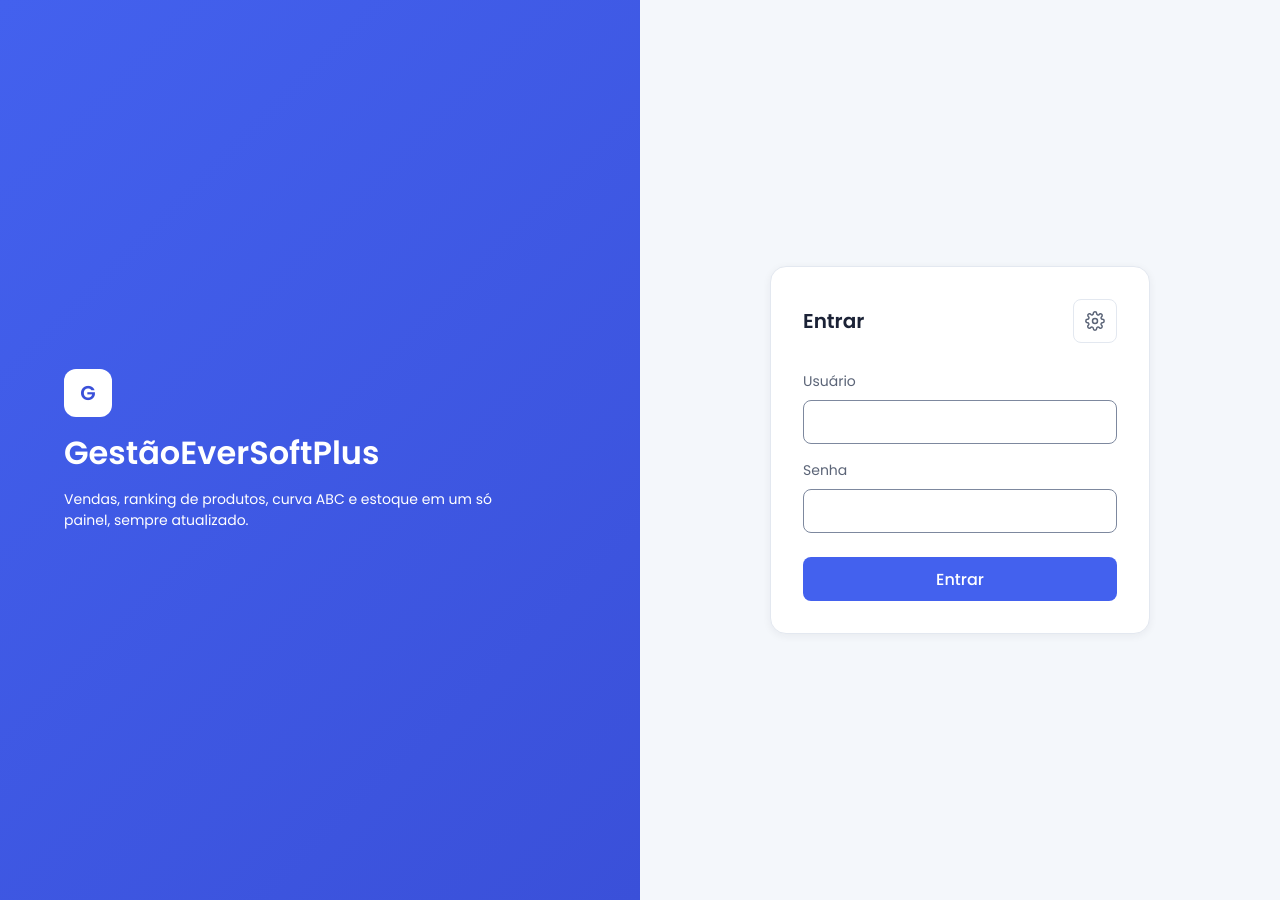
it: LoginPage › submeter credenciais inválidas exibe mensagem de erro e mantém o usuário no login
This screenshot has width=1280, height=900.
Type "gestor" into the field labelled "Usuário". click: (960, 422)
box: [803,400,1117,444]
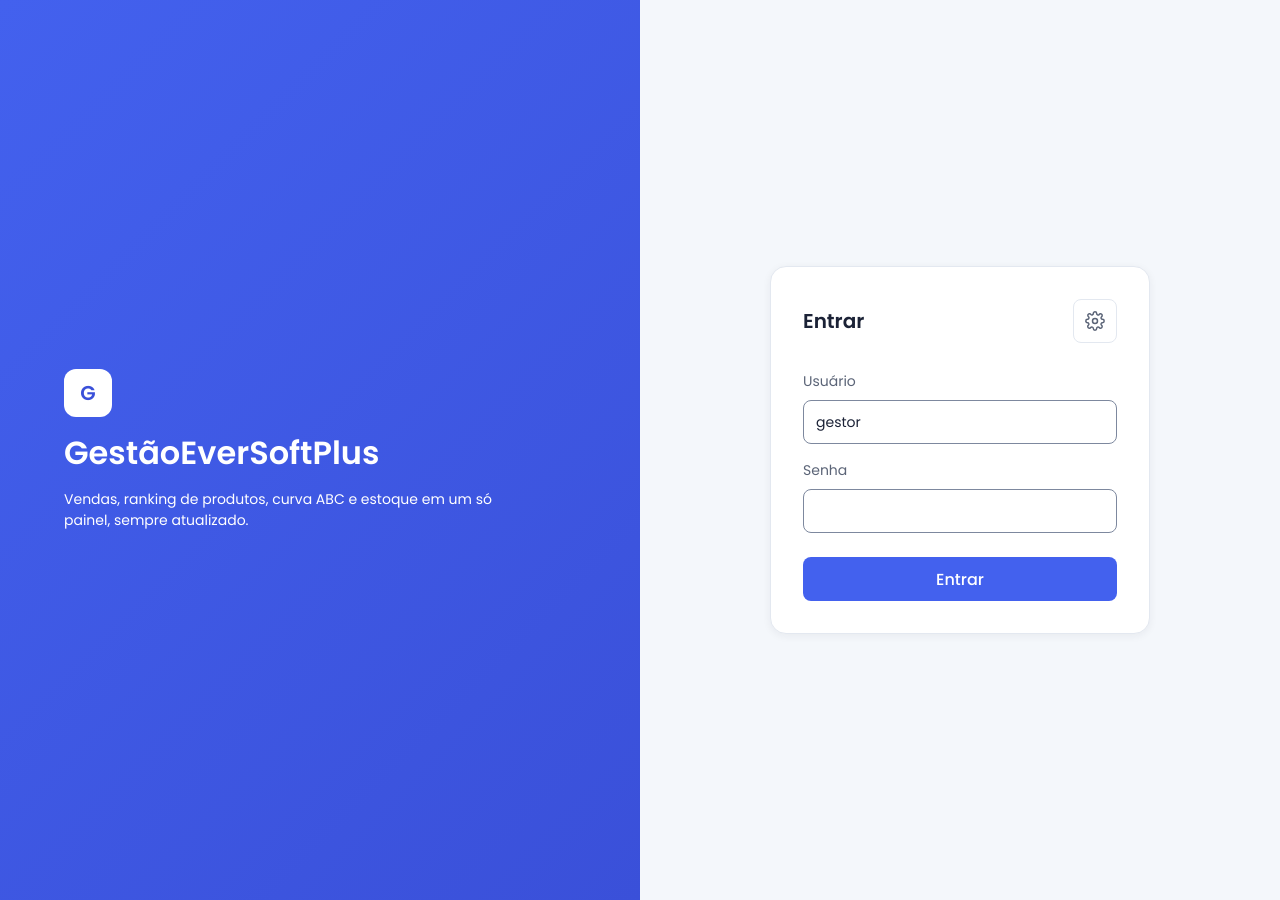
Type "errada" into the password field labelled "Senha". click: (960, 511)
box: [803,489,1117,533]
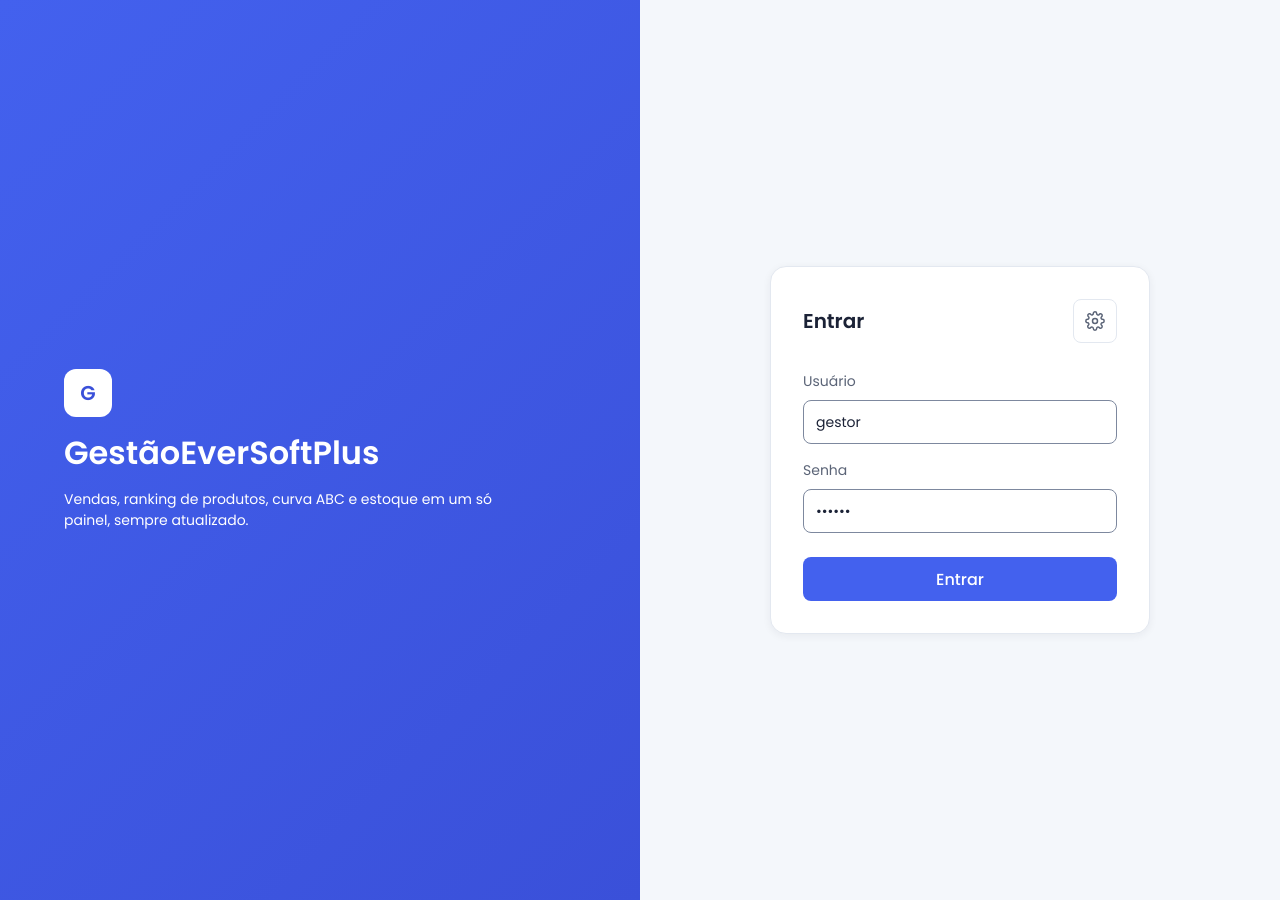
Click the button "Entrar". click: (960, 579)
box: [803,557,1117,601]
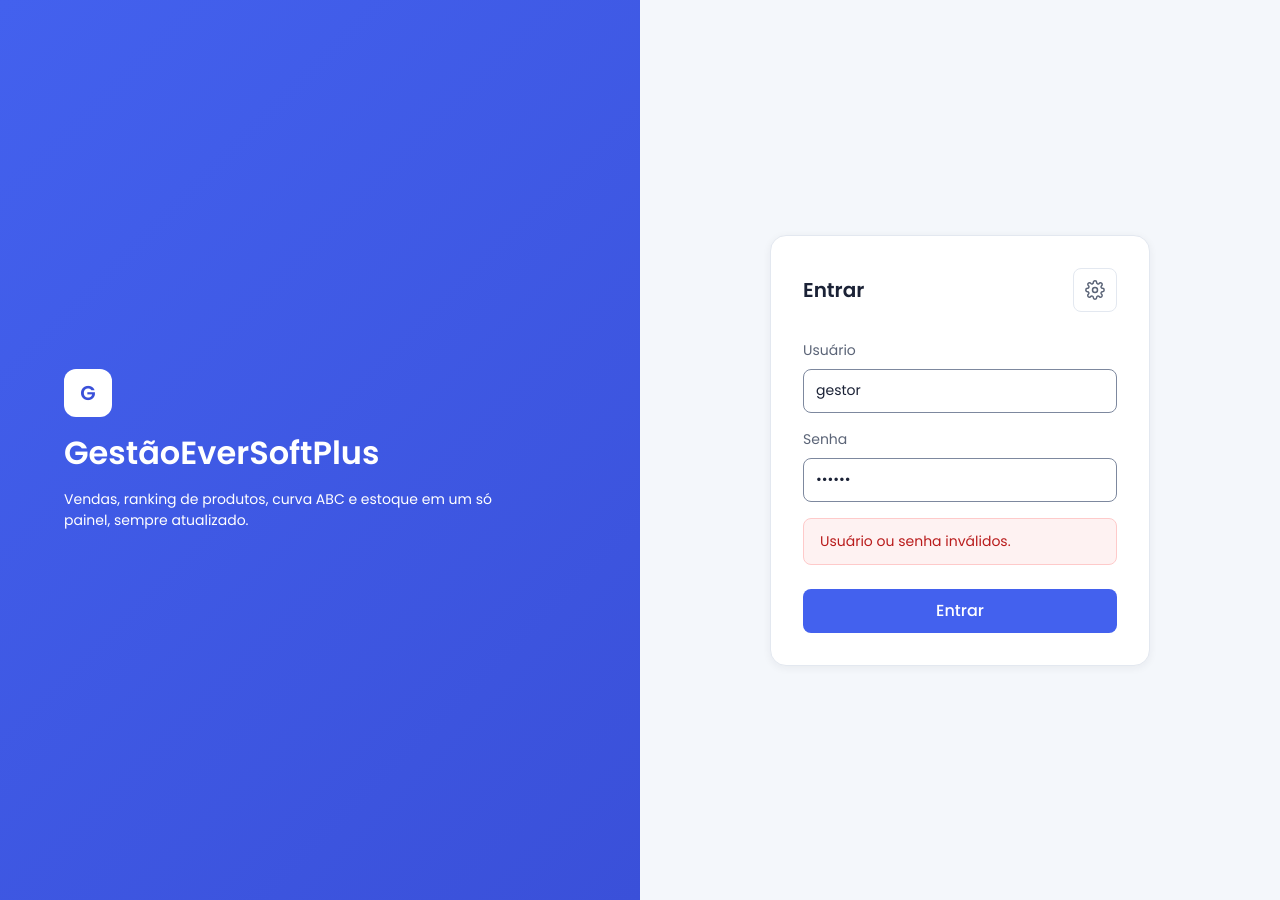
Expected: the button "Entrar" is enabled, [803,588,1117,632]
Expected: the message reads "Usuário ou senha inválidos.", [820,530,1011,550]
